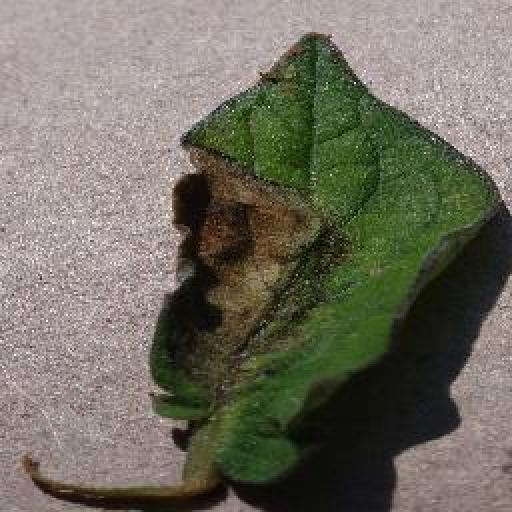Late Blight: (152, 32, 508, 483)
